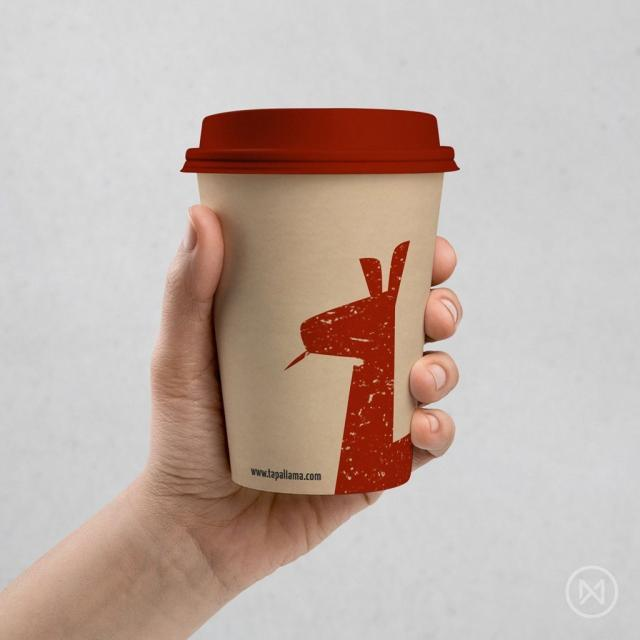paper cup: (181, 106, 460, 496)
